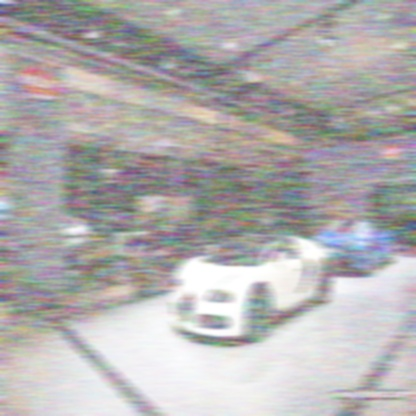Vehicle: (168, 233, 332, 345)
